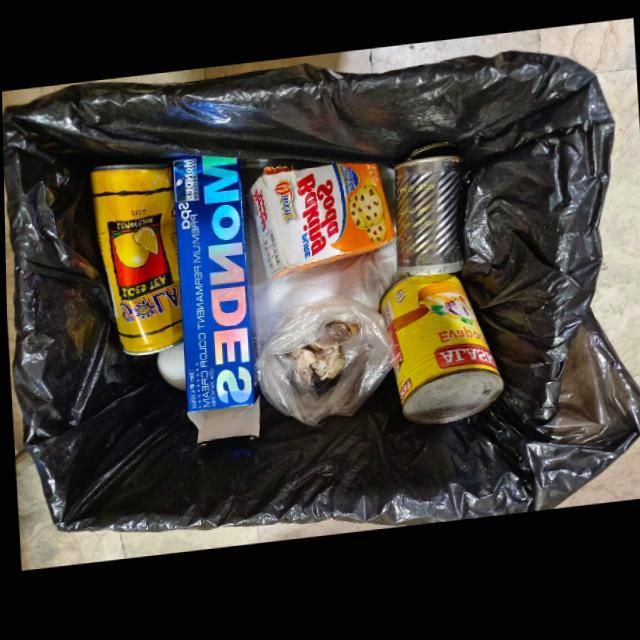aluminum: (377, 279, 501, 431), (88, 161, 182, 357), (393, 148, 462, 283)
cardboard: (171, 157, 259, 451), (249, 168, 394, 283)
left_over_food: (286, 325, 357, 390)
plastic_bag: (256, 300, 395, 430)
